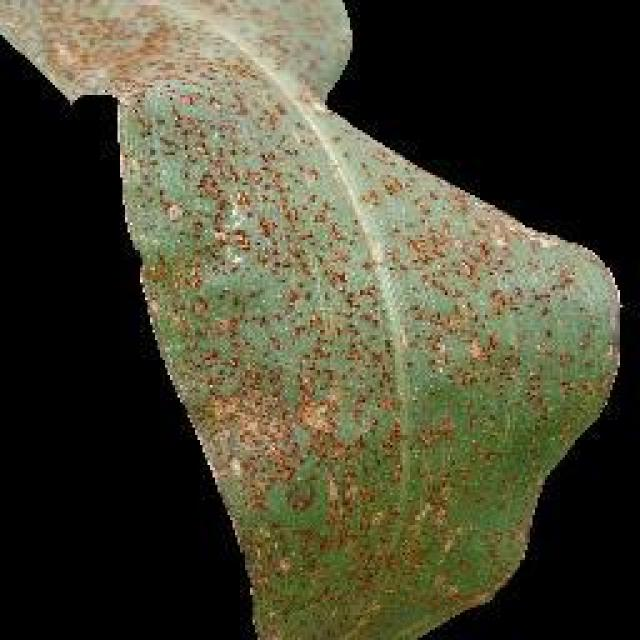Corn Common Rust: (152, 137, 526, 540)
